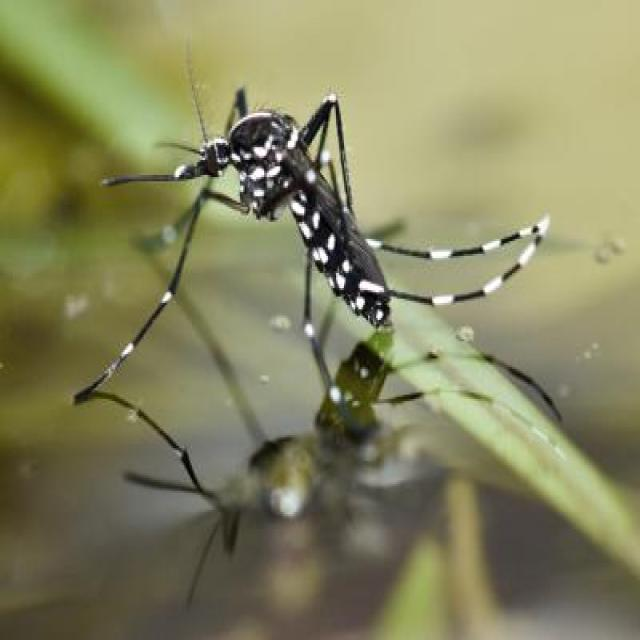antennae: (178, 40, 216, 144)
body: (203, 103, 391, 329)
insect: (72, 39, 548, 404)
legs: (73, 183, 244, 402), (373, 206, 552, 308), (301, 86, 366, 206)
mouthpart: (92, 141, 210, 193)
wings: (292, 140, 390, 300)
